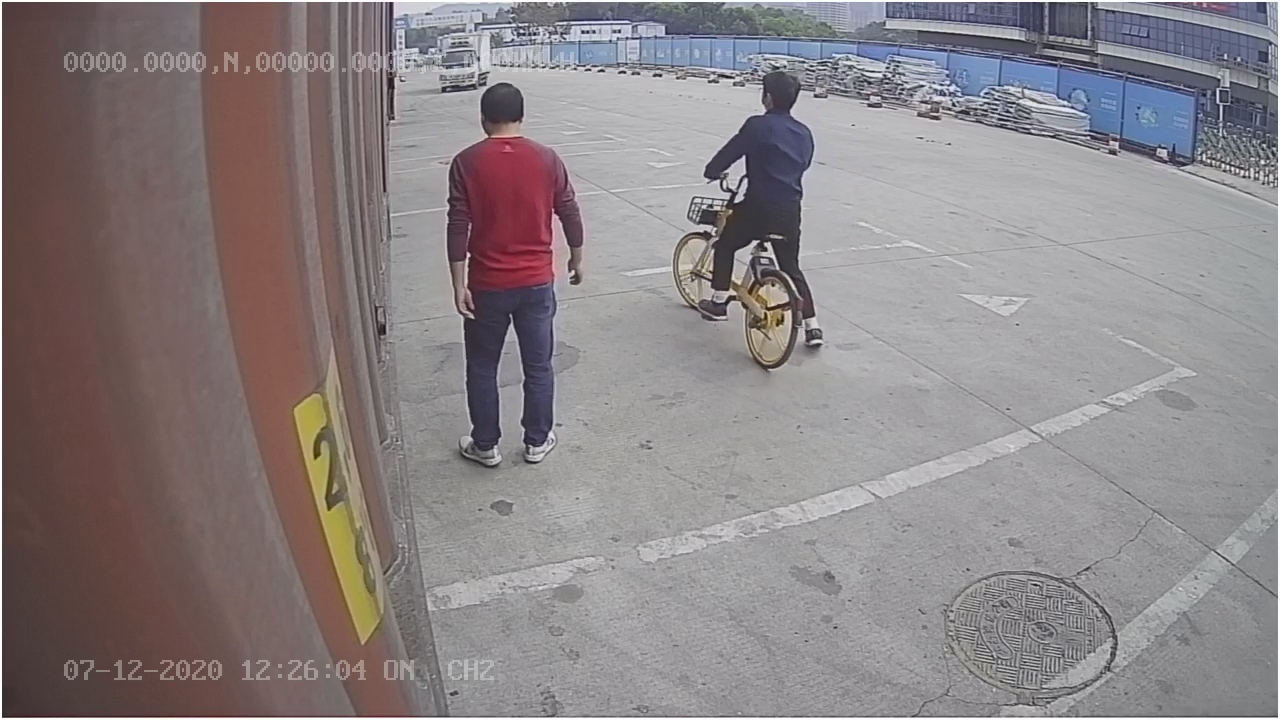person: (442, 78, 588, 473)
